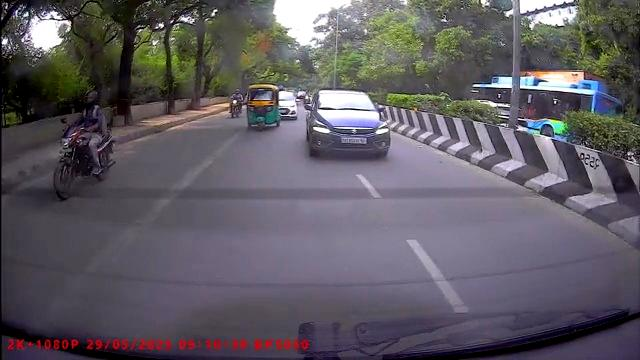motorcycle_with_helmet: (50, 88, 117, 202)
